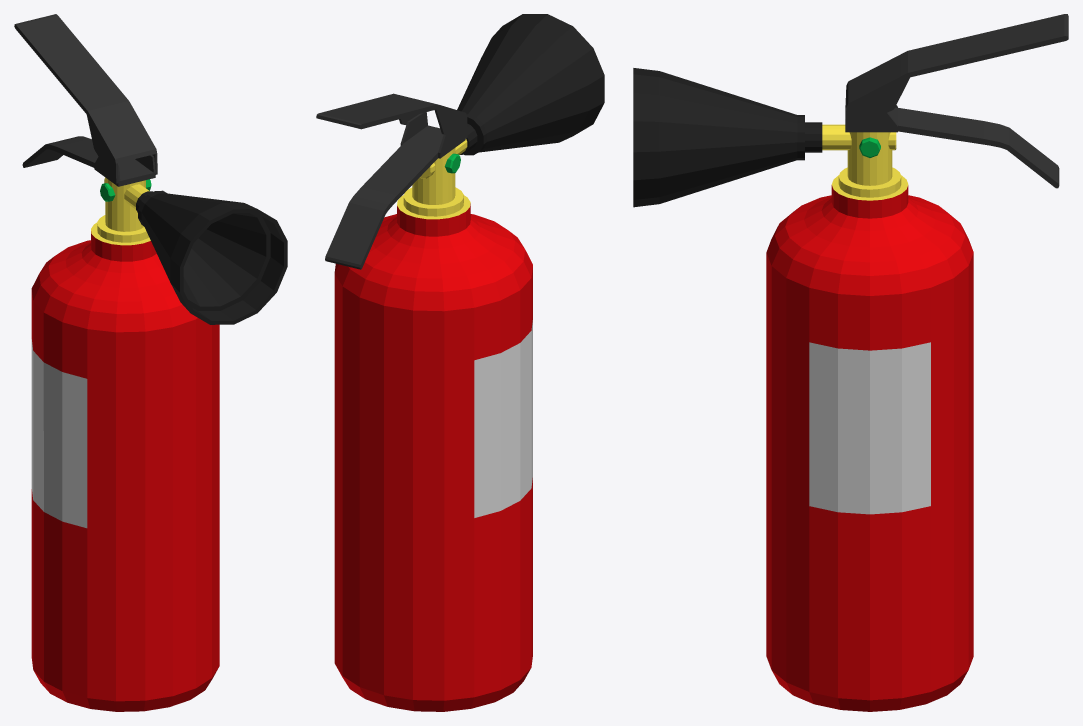
The model's file is extinguisher.fbx.
3 renders of one model, left to right at view 1: azimuth 30°, elevation 25°; view 2: azimuth 150°, elevation 25°; view 3: azimuth 270°, elevation 25°, orthographic. The views are drawn at different scales.
Parts seen in each view (by area): view 1: Base, Handle; view 2: Base, Handle; view 3: Base, Handle.
Boxes of the visible parts, x1,y1,x2,y2 form: Base: (22, 136, 287, 711); Handle: (14, 14, 157, 184); Base: (325, 14, 604, 711); Handle: (316, 93, 467, 138); Base: (633, 68, 1059, 711); Handle: (845, 14, 1068, 130).
Size of the model in its own units: 24 by 84.02 by 50.46.
